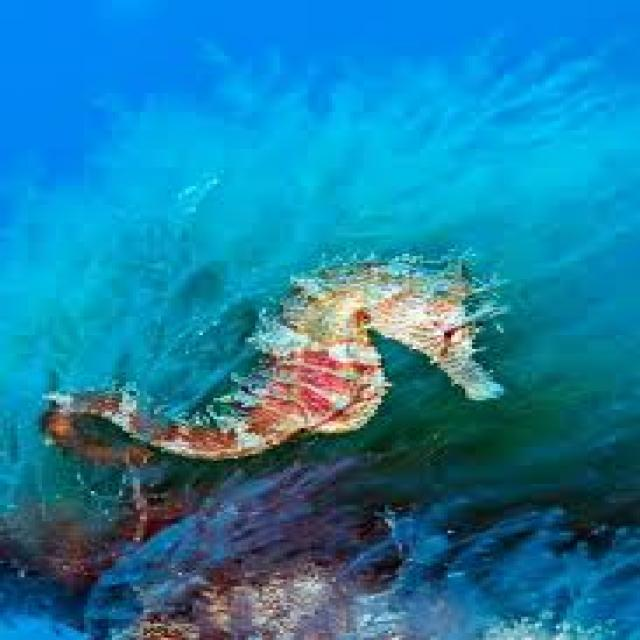SeaHorse: (39, 251, 504, 470)
